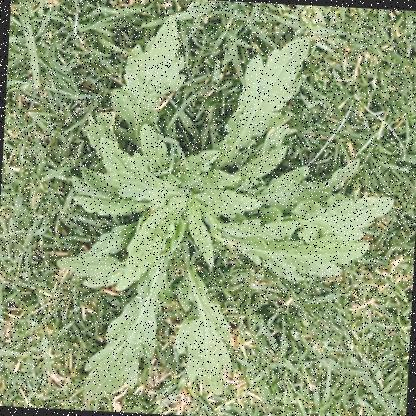Weeds: (48, 12, 403, 414)
